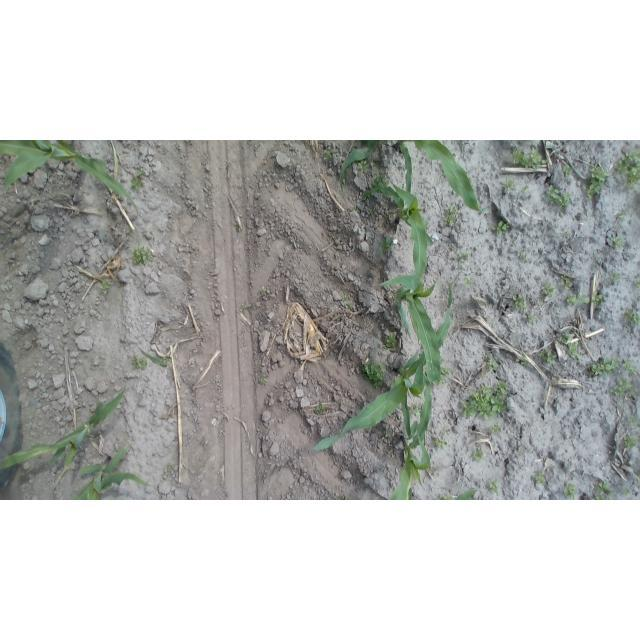Maize: (313, 290, 455, 459), (1, 385, 131, 473), (340, 141, 490, 212), (0, 140, 142, 213), (377, 274, 440, 393), (364, 175, 434, 277), (392, 368, 436, 499), (70, 443, 152, 499), (440, 489, 480, 500)
Weeds: (460, 378, 512, 421), (616, 149, 639, 188), (584, 165, 608, 202), (543, 183, 574, 211), (509, 147, 546, 170), (362, 361, 387, 389), (589, 357, 620, 376), (612, 378, 637, 399), (558, 330, 578, 354), (560, 336, 581, 358), (131, 246, 153, 266), (130, 168, 147, 192), (594, 480, 614, 500), (538, 348, 558, 365), (623, 306, 638, 328), (491, 220, 511, 236), (564, 293, 590, 305), (372, 174, 390, 191), (540, 282, 556, 301), (132, 354, 149, 371), (378, 236, 394, 254), (445, 207, 460, 226), (384, 333, 399, 352), (621, 360, 638, 376), (432, 434, 448, 451), (532, 469, 548, 485), (563, 482, 578, 499), (622, 434, 638, 449), (512, 294, 527, 310), (613, 233, 627, 249), (486, 353, 500, 369), (487, 478, 500, 495), (561, 164, 574, 180), (517, 247, 530, 263), (561, 274, 574, 290), (455, 251, 469, 265), (440, 365, 453, 380), (358, 158, 370, 174), (592, 291, 604, 306), (502, 178, 515, 191), (473, 449, 486, 462), (341, 294, 352, 309), (239, 301, 254, 312), (489, 425, 503, 436), (316, 402, 327, 416), (323, 148, 335, 160), (100, 281, 112, 293), (628, 414, 638, 428), (619, 486, 631, 497), (609, 272, 621, 283), (233, 220, 244, 232), (367, 207, 378, 218), (412, 406, 423, 417), (616, 211, 626, 223), (525, 313, 535, 324), (160, 355, 170, 365), (383, 430, 393, 440), (463, 278, 474, 287), (516, 358, 528, 366), (337, 493, 352, 499), (167, 463, 176, 473), (562, 230, 571, 240), (258, 286, 266, 296), (520, 185, 530, 193), (258, 376, 267, 384), (633, 279, 640, 289), (553, 399, 560, 408), (520, 351, 526, 356)
